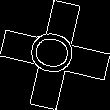O_E: (26, 28, 84, 82)
